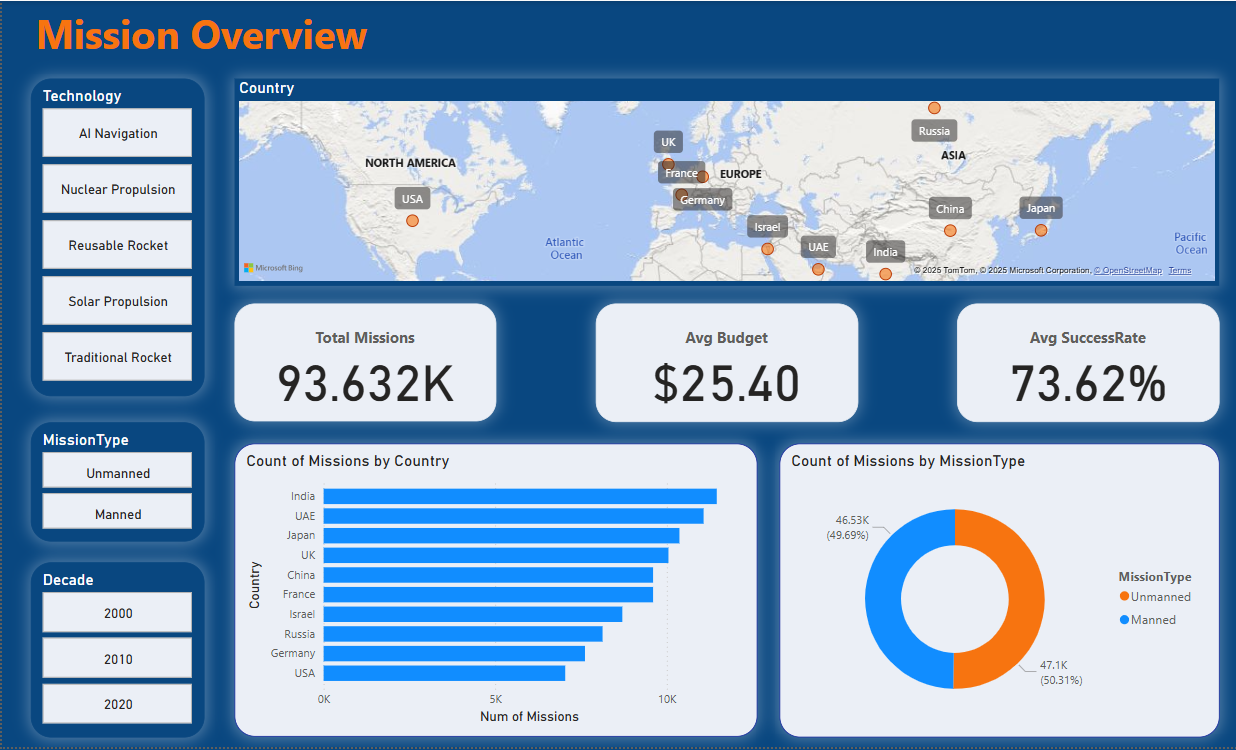

The dashboard page shown, as its layout file describes it:
{"tool":"powerbi","page":{"name":"Mission Overview","canvas":[1325,800],"ordinal":0},"visuals":[{"type":"cardVisual","fields":{"Data":["Count(FactMissions.MissionName)"]},"box":[249.8,324.4,280.9,126.8],"z":0},{"type":"cardVisual","fields":{"Data":["FactMissions.Avg Budget"]},"box":[636.7,324.4,281.5,127.3],"z":1000},{"type":"cardVisual","fields":{"Data":["FactMissions.Avg SuccessRate"]},"box":[1024.1,324.4,281.5,127.3],"z":2000},{"type":"clusteredBarChart","title":"Count of Missions by Country","fields":{"Category":["DimCountry.Country"],"Y":["Count(FactMissions.MissionName)"]},"box":[249.8,474.8,560.6,314.5],"z":3000},{"type":"donutChart","title":"Count of Missions by MissionType","fields":{"Category":["DimMissionType.MissionType"],"Y":["Count(FactMissions.MissionName)"]},"box":[833.8,474.5,471.9,315],"z":4000},{"type":"map","fields":{"Category":["DimCountry.Country"]},"box":[249.3,83.1,1056.3,222.5],"z":5000},{"type":"advancedSlicerVisual","fields":{"Values":["DimMissionType.MissionType"]},"box":[31.1,451.2,186.4,128],"z":6000},{"type":"advancedSlicerVisual","fields":{"Values":["DimYear.Decade"]},"box":[31.1,601.6,186.4,188],"z":7000},{"type":"advancedSlicerVisual","fields":{"Values":["DimTechnology.Technology"]},"box":[31.1,83.3,186.4,340.6],"z":8000},{"type":"textbox","box":[31.1,0,377.9,69.6],"z":8001}]}

Visuals, with their boxes in screenshot pixels (x1, y1, x2, y2), scaled from the page's 1325x800 canvas onto the 1236x750 screenshot:
cardVisual - Count(FactMissions.MissionName): box=[233, 304, 495, 423]
cardVisual - FactMissions.Avg Budget: box=[594, 304, 857, 423]
cardVisual - FactMissions.Avg SuccessRate: box=[955, 304, 1218, 423]
"Count of Missions by Country" clusteredBarChart: box=[233, 445, 756, 740]
"Count of Missions by MissionType" donutChart: box=[778, 445, 1218, 740]
map - DimCountry.Country: box=[233, 78, 1218, 286]
advancedSlicerVisual - DimMissionType.MissionType: box=[29, 423, 203, 543]
advancedSlicerVisual - DimYear.Decade: box=[29, 564, 203, 740]
advancedSlicerVisual - DimTechnology.Technology: box=[29, 78, 203, 397]
textbox: box=[29, 0, 382, 65]
